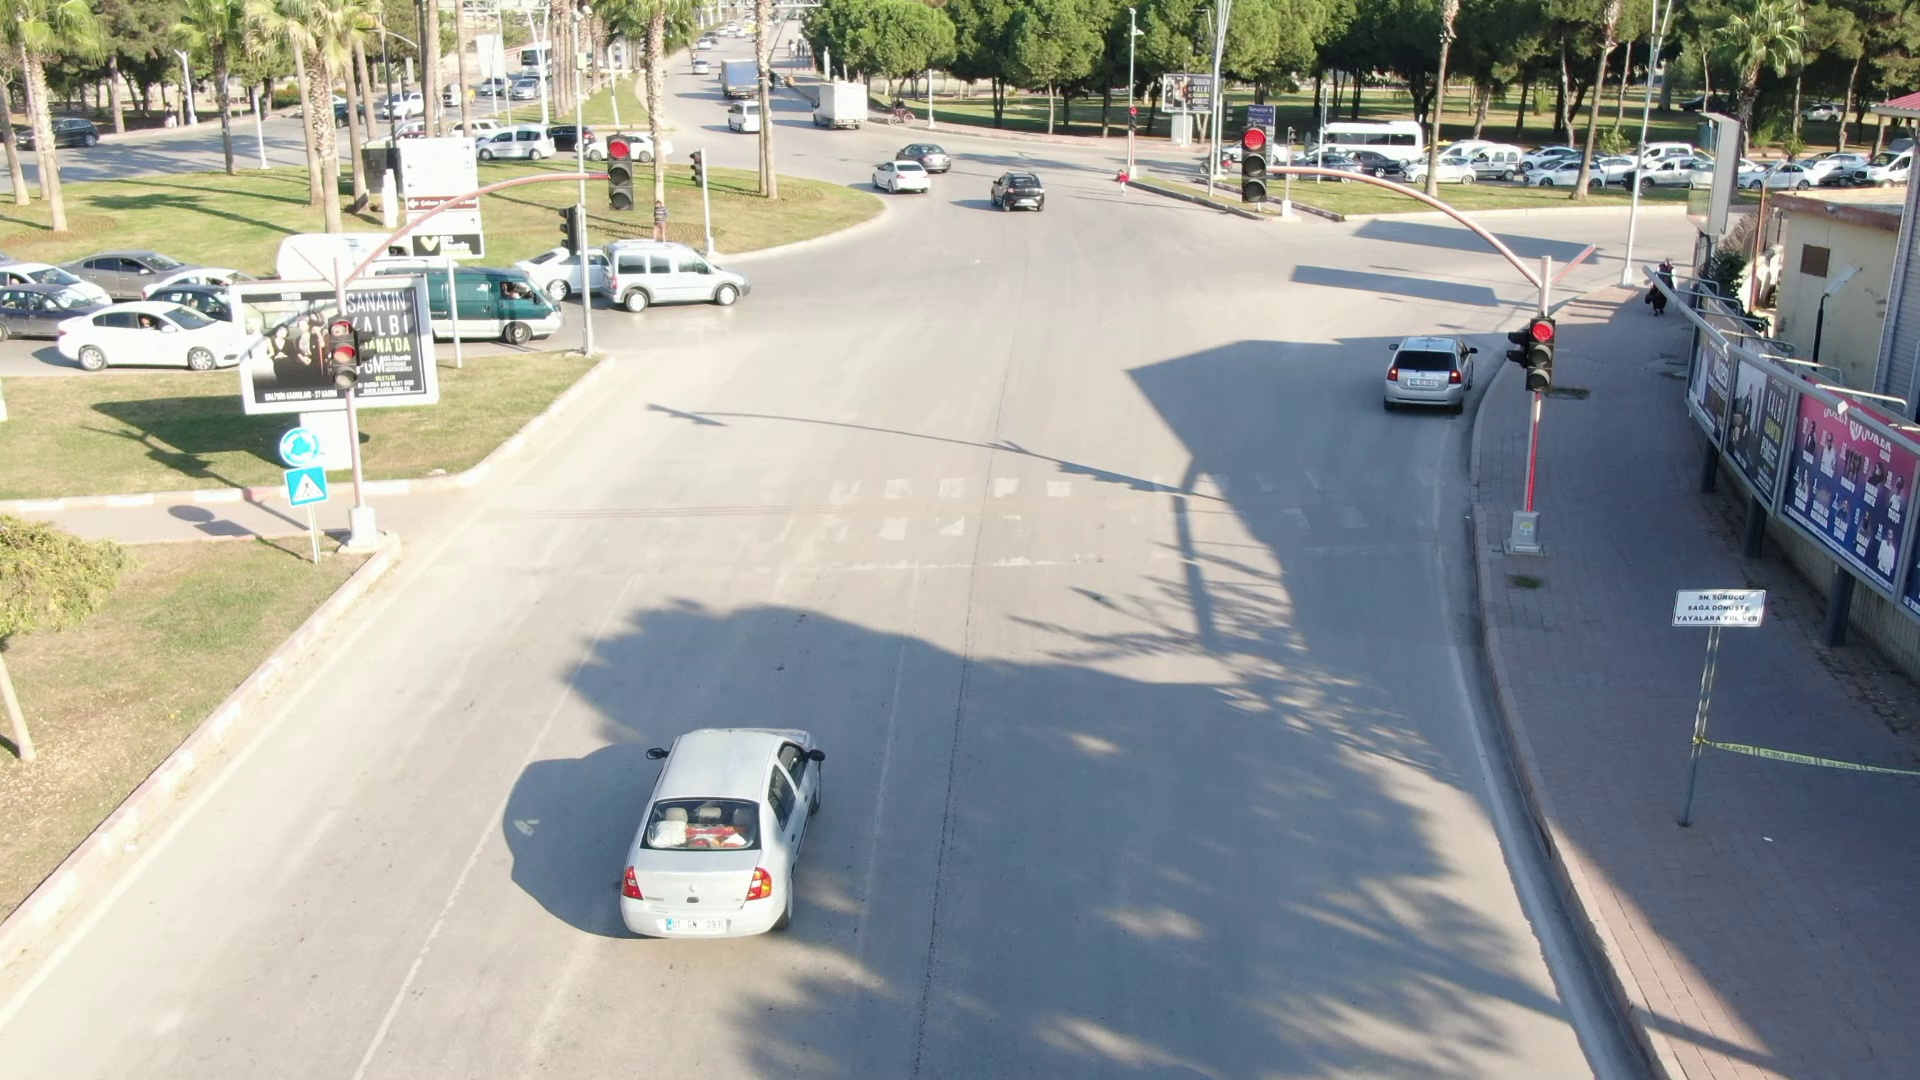car: (595, 688, 864, 984), (47, 276, 237, 382), (601, 228, 760, 319), (1375, 323, 1484, 423), (975, 162, 1063, 227), (864, 146, 945, 214)
